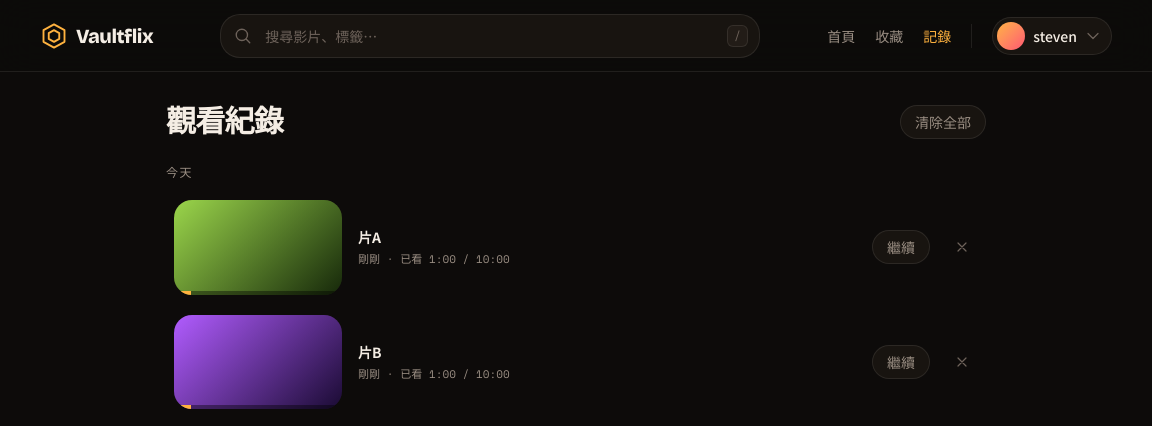
HistoryPage › hides a removed row without asking the server
This screenshot has width=1152, height=426.
What coordinates should you click on to do the following:
click the button named "移除" in the row of "片A"
I would click on:
 (962, 247)
Its box is [946,231,978,263].
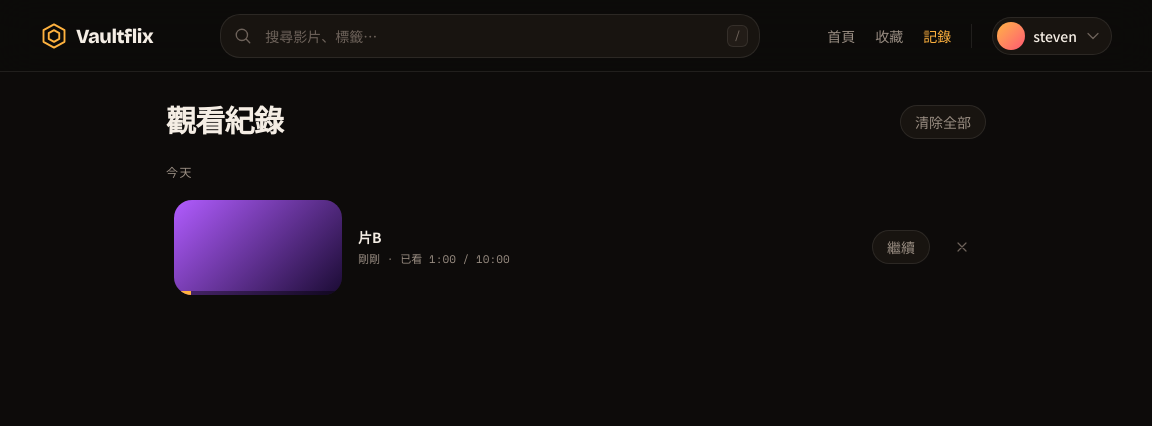
Expected: the heading "片B" is shown, [358,227,382,247]
Result: no links "片A" are shown
